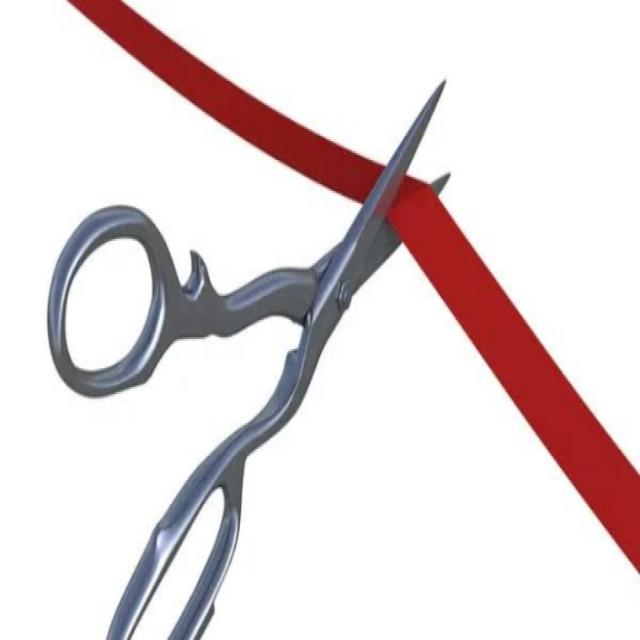scissor: (24, 75, 451, 640)
